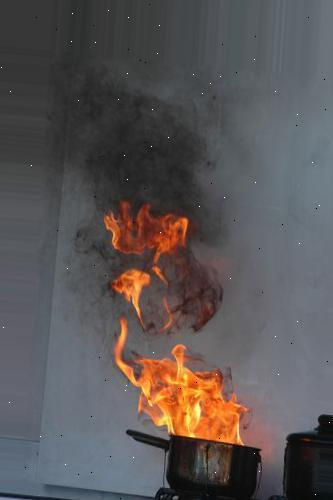fire: (92, 333, 262, 443), (105, 203, 172, 329)
smoke: (63, 73, 220, 221), (172, 240, 226, 331)
